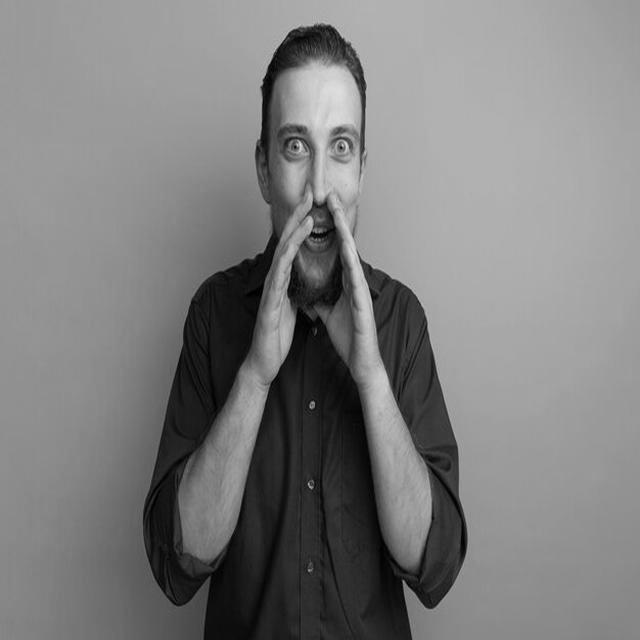Surprised: (267, 65, 363, 304)
